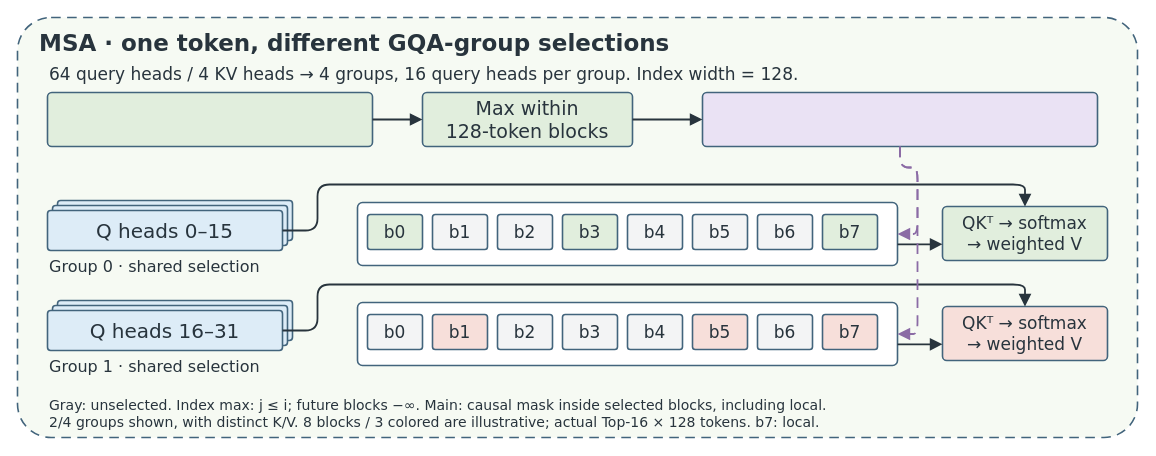
Image size: 1156x456. Some labels were removed from this diagram. Here are the shapes that lost their labels. From the top down, the centre of each, then its label:
point (209, 119): Index Q(r) · shared index K Scaled token scores
point (899, 119): Top-16 blocks / group Local block included
